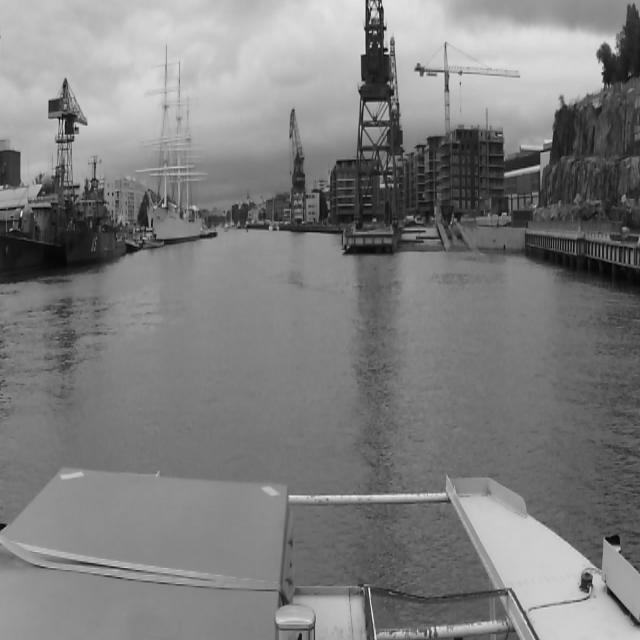ship: (150, 39, 203, 250), (52, 150, 126, 276), (140, 220, 164, 248), (268, 196, 280, 233)
